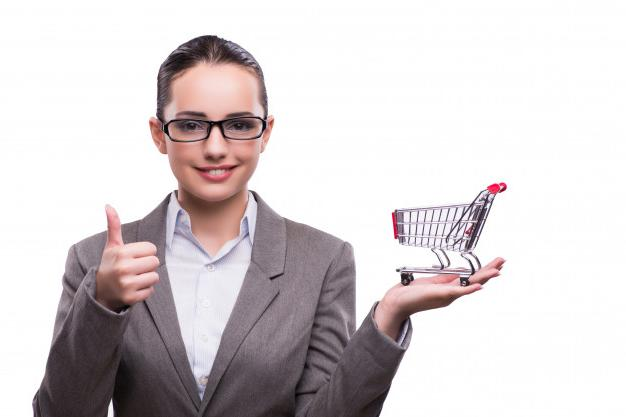thumbsup: (104, 203, 160, 305)
